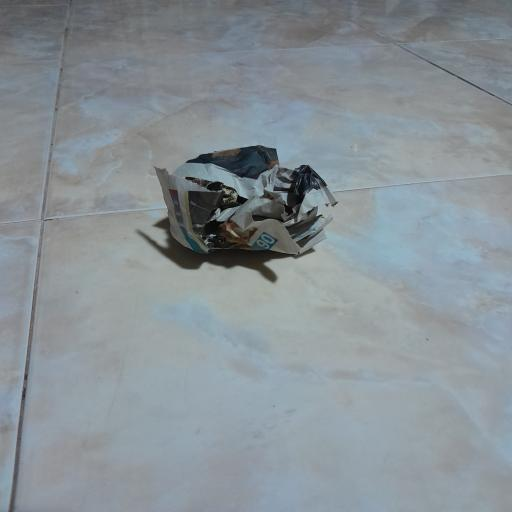waste: (144, 133, 365, 279)
